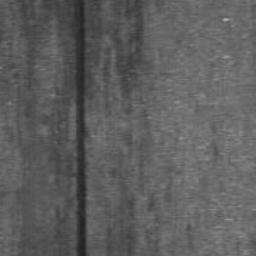Scratches: (74, 0, 88, 256)
